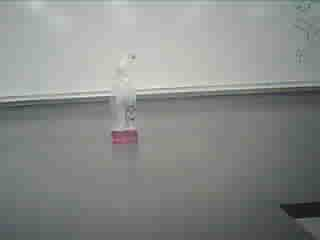hazard: (103, 53, 144, 150)
